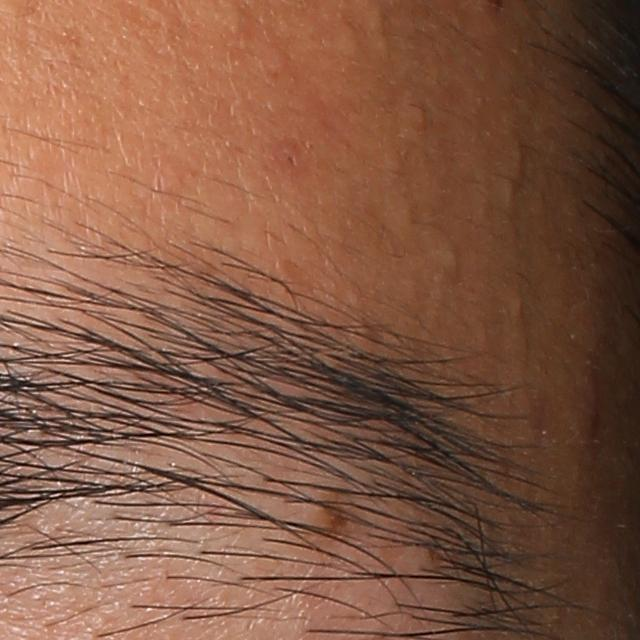comedo: (406, 98, 435, 135)
